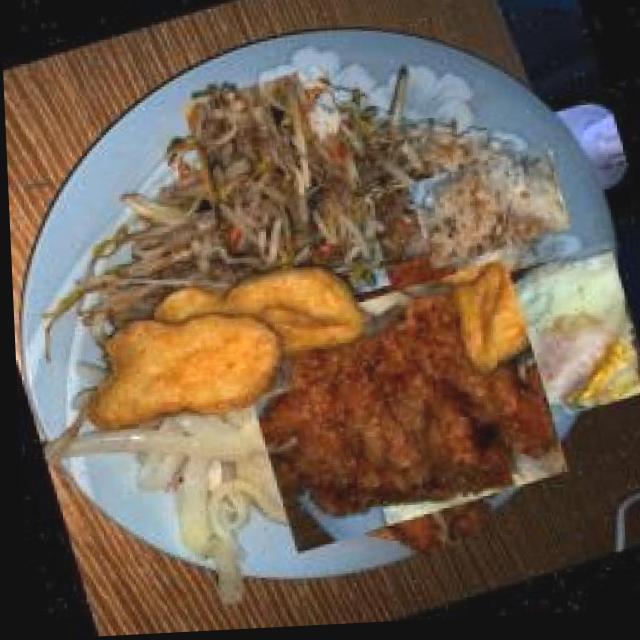chicken_nuggets: (61, 245, 376, 451)
fried_chicken: (240, 251, 555, 569)
fried_eggs: (465, 247, 640, 439)
mung_bean_sprouts: (166, 79, 404, 318)
rice: (414, 138, 562, 286)
